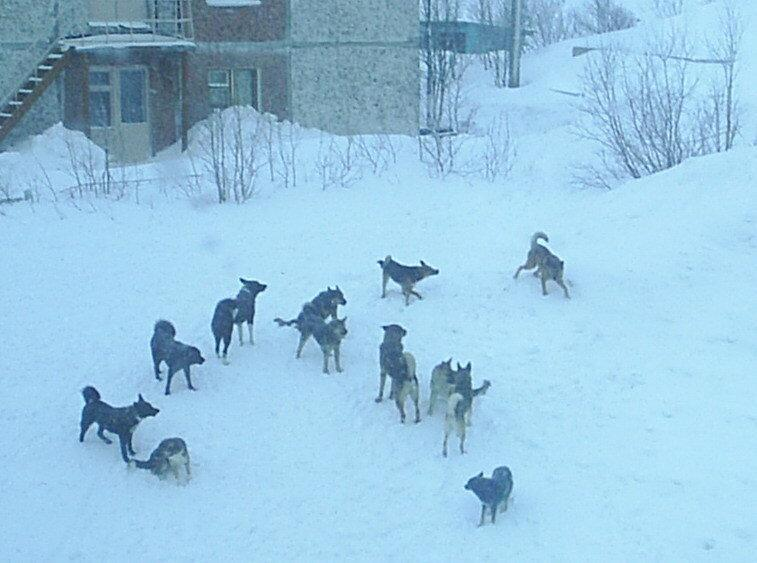dog_aggressive: (511, 228, 572, 300), (295, 301, 347, 375), (374, 253, 442, 306)
normal_dogs: (78, 385, 161, 466), (213, 278, 269, 366), (376, 321, 421, 426), (148, 319, 205, 397), (461, 464, 516, 529), (441, 359, 475, 458), (129, 436, 193, 487), (431, 358, 490, 413)
